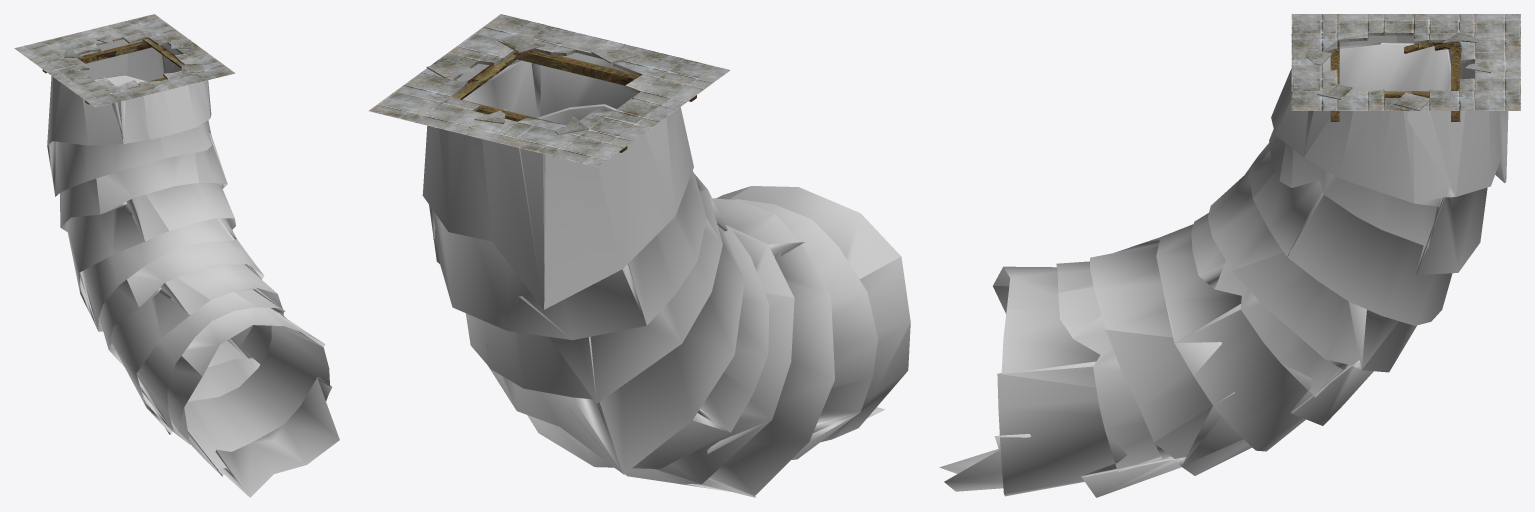
The model's file is 01_01_simon_apart_toilet_hole.dae.
3 renders of one model, left to right at view 1: azimuth 30°, elevation 25°; view 2: azimuth 150°, elevation 25°; view 3: azimuth 270°, elevation 25°, orthographic. The views are drawn at different scales.
Visible parts, largest first — view 1: tunnel04, pPlane1, polySurface1253, polySurface1254; view 2: tunnel04, pPlane1, polySurface1253, polySurface1254; view 3: tunnel04, pPlane1, polySurface1254, polySurface1253.
Boxes of the visible parts, <box> form: tunnel04: <box>47,39,339,497</box>; pPlane1: <box>14,14,235,107</box>; polySurface1253: <box>42,38,182,104</box>; polySurface1254: <box>63,34,203,90</box>; tunnel04: <box>422,52,910,497</box>; pPlane1: <box>368,14,730,166</box>; polySurface1253: <box>453,50,696,152</box>; polySurface1254: <box>426,33,638,134</box>; tunnel04: <box>939,35,1508,497</box>; pPlane1: <box>1291,14,1520,110</box>; polySurface1254: <box>1306,32,1490,110</box>; polySurface1253: <box>1330,42,1460,121</box>.
Bounding box in the file's own units: 2.18 × 4.2 × 5.08.
